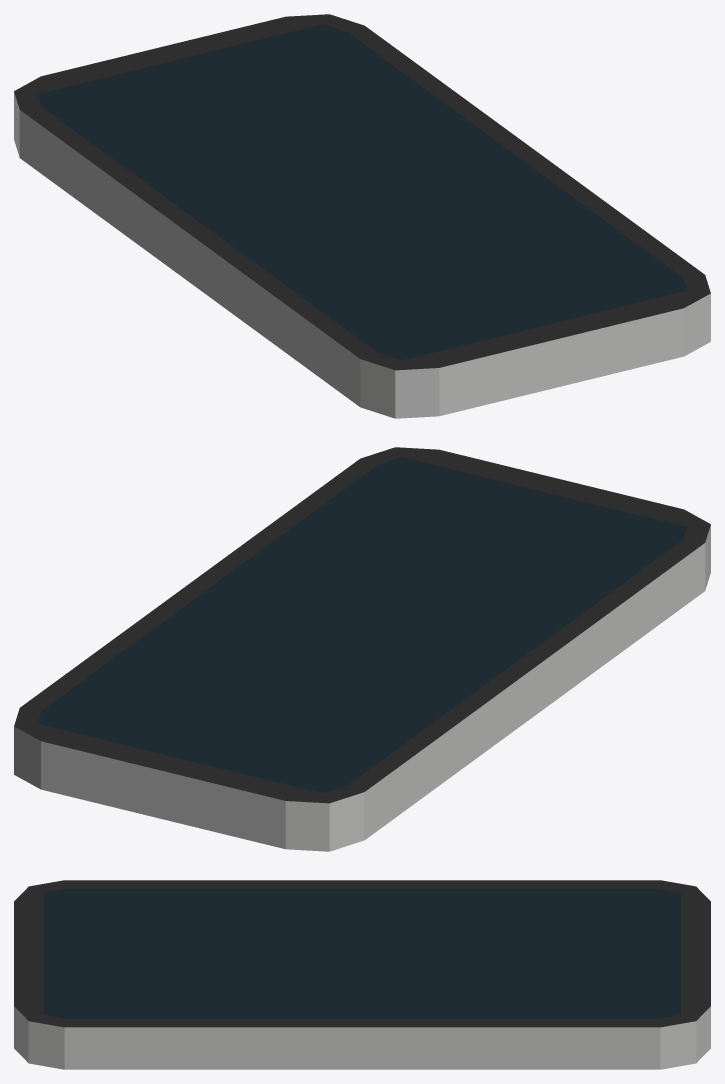
File: phone.glb
3 renders of one model, top to bottom at view 1: azimuth 30°, elevation 25°; view 2: azimuth 150°, elevation 25°; view 3: azimuth 270°, elevation 25°, orthographic. The views are drawn at different scales.
Visible parts, largest first — view 1: phone; view 2: phone; view 3: phone.
Part boxes in pixels (x1,y1,x2,y2): phone: [14, 14, 710, 418]; phone: [14, 447, 710, 851]; phone: [14, 880, 710, 1069].
Bounding box in the file's own units: 0.075 × 0.01 × 0.15.
Materials: 1 (1 with a texture image).
